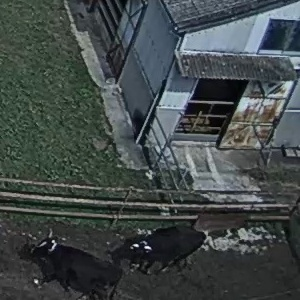cow: (16, 226, 119, 300), (107, 217, 221, 271)
